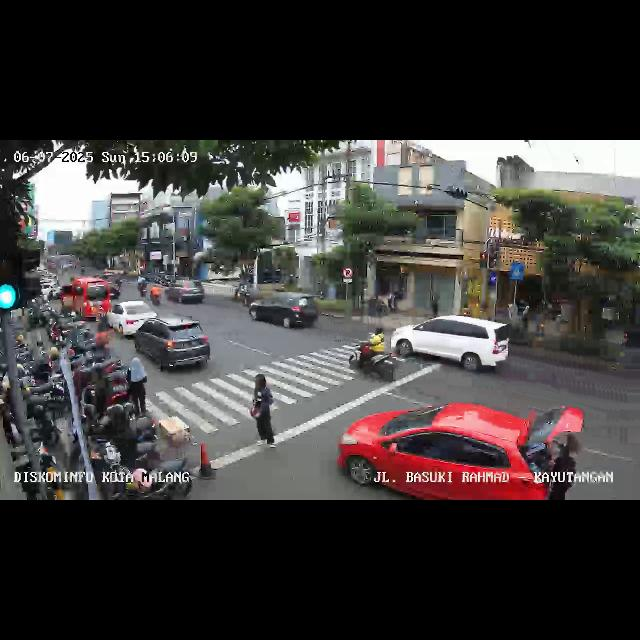car: (337, 400, 586, 500), (394, 314, 510, 376), (135, 314, 213, 376), (248, 288, 320, 332), (58, 278, 110, 322), (108, 300, 158, 338), (164, 279, 206, 307)
motorcycle: (525, 421, 581, 499), (344, 323, 396, 381), (150, 283, 162, 307), (136, 275, 148, 297), (110, 278, 122, 300), (234, 280, 246, 302)
person: (250, 373, 278, 451), (128, 356, 150, 419)
